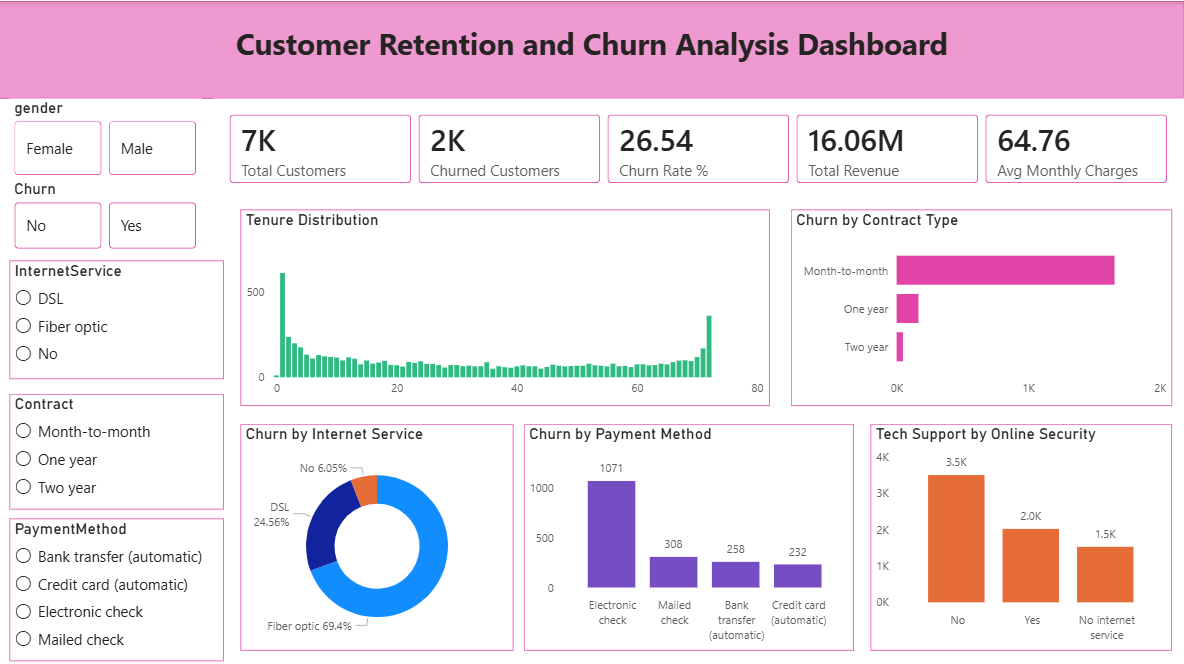

The page's visual inventory and layout, read from the dashboard file:
{"tool":"powerbi","page":{"name":"Page 1","canvas":[1280,720],"ordinal":0},"visuals":[{"type":"clusteredBarChart","title":"Churn by Contract Type","fields":{"Category":["Cleaned-Telco-Customer-Churn.Contract"],"Y":["Cleaned-Telco-Customer-Churn.Churned Customers"]},"box":[855,225.1,411.3,212.1],"z":0},{"type":"donutChart","title":"Churn by Internet Service","fields":{"Y":["Cleaned-Telco-Customer-Churn.Churned Customers"],"Category":["Cleaned-Telco-Customer-Churn.InternetService"]},"box":[260.7,456.6,294.7,244.5],"z":1000},{"type":"columnChart","title":"Churn by Payment Method","fields":{"Category":["Cleaned-Telco-Customer-Churn.PaymentMethod"],"Y":["Cleaned-Telco-Customer-Churn.Churned Customers"]},"box":[566.7,456.6,356.2,244.5],"z":2000},{"type":"lineStackedColumnComboChart","title":"Tenure Distribution","fields":{"Category":["Cleaned-Telco-Customer-Churn.tenure"],"Y":["CountNonNull(Cleaned-Telco-Customer-Churn.customerID)"]},"box":[260.7,225.1,571.6,212.1],"z":3000},{"type":"columnChart","title":"Tech Support by Online Security","fields":{"Category":["Cleaned-Telco-Customer-Churn.OnlineSecurity"],"Y":["CountNonNull(Cleaned-Telco-Customer-Churn.TechSupport)"]},"box":[940.8,456.6,325.5,244.5],"z":4000},{"type":"textbox","box":[0,0,1280.8,105.2],"z":5000},{"type":"cardVisual","fields":{"Data":["Cleaned-Telco-Customer-Churn.Total Customers","Cleaned-Telco-Customer-Churn.Churned Customers","Cleaned-Telco-Customer-Churn.Churn Rate %","Cleaned-Telco-Customer-Churn.Total Revenue","Cleaned-Telco-Customer-Churn.Avg Monthly Charges"]},"box":[231.5,105.2,1049.3,108.5],"z":6000},{"type":"listSlicer","fields":{"Values":["Cleaned-Telco-Customer-Churn.Contract"]},"box":[11.3,424.2,231.5,124.7],"z":7000},{"type":"advancedSlicerVisual","fields":{"Values":["Cleaned-Telco-Customer-Churn.gender"]},"box":[11.3,105.2,207.3,87.4],"z":8000},{"type":"listSlicer","fields":{"Values":["Cleaned-Telco-Customer-Churn.InternetService"]},"box":[11.3,280.1,231.5,127.9],"z":9000},{"type":"listSlicer","fields":{"Values":["Cleaned-Telco-Customer-Churn.PaymentMethod"]},"box":[11.3,558.6,231.5,153.8],"z":9001},{"type":"advancedSlicerVisual","fields":{"Values":["Cleaned-Telco-Customer-Churn.Churn"]},"box":[11.3,192.7,207.3,79.3],"z":9002}]}

Visuals, with their boxes in screenshot pixels (x1, y1, x2, y2), scaled from the page's 1280x720 canvas onto the 1184x664 screenshot:
"Churn by Contract Type" clusteredBarChart: 791/208/1171/403
"Churn by Internet Service" donutChart: 241/421/514/647
"Churn by Payment Method" columnChart: 524/421/854/647
"Tenure Distribution" lineStackedColumnComboChart: 241/208/770/403
"Tech Support by Online Security" columnChart: 870/421/1171/647
textbox: 0/0/1183/97
cardVisual - Cleaned-Telco-Customer-Churn.Total Customers x Cleaned-Telco-Customer-Churn.Churned Customers: 214/97/1183/197
listSlicer - Cleaned-Telco-Customer-Churn.Contract: 10/391/225/506
advancedSlicerVisual - Cleaned-Telco-Customer-Churn.gender: 10/97/202/178
listSlicer - Cleaned-Telco-Customer-Churn.InternetService: 10/258/225/376
listSlicer - Cleaned-Telco-Customer-Churn.PaymentMethod: 10/515/225/657
advancedSlicerVisual - Cleaned-Telco-Customer-Churn.Churn: 10/178/202/251
